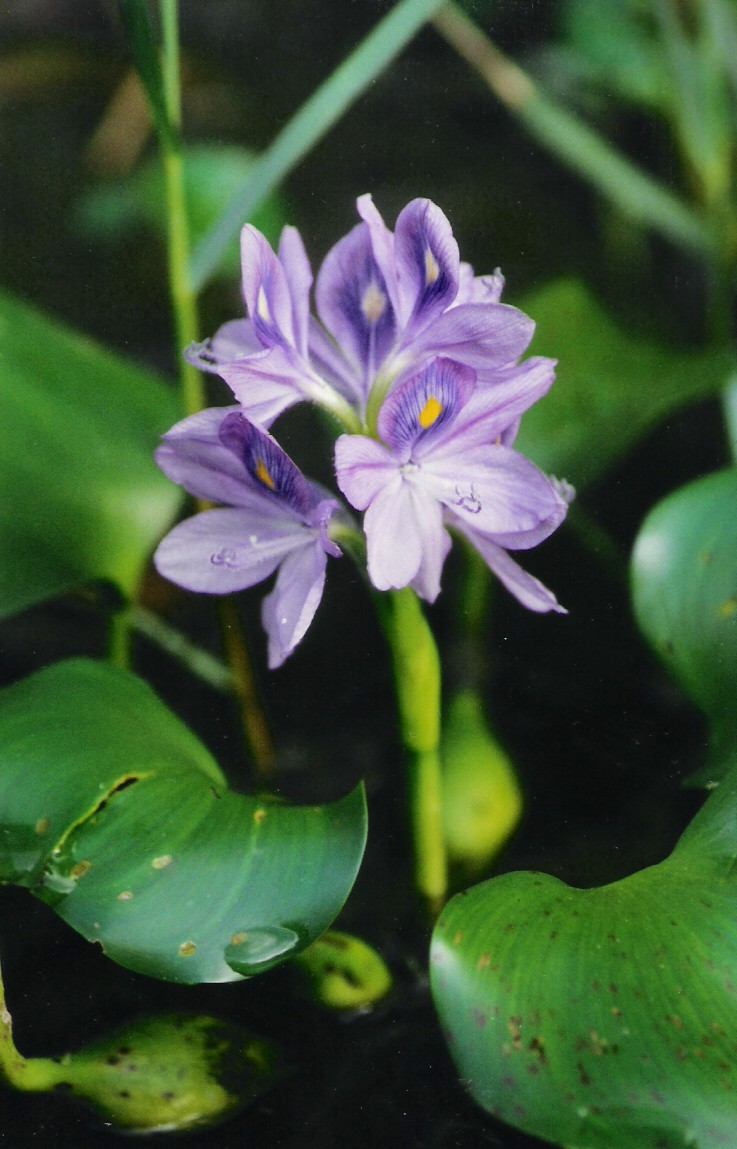water_hyacinth: (3, 183, 734, 1145)
